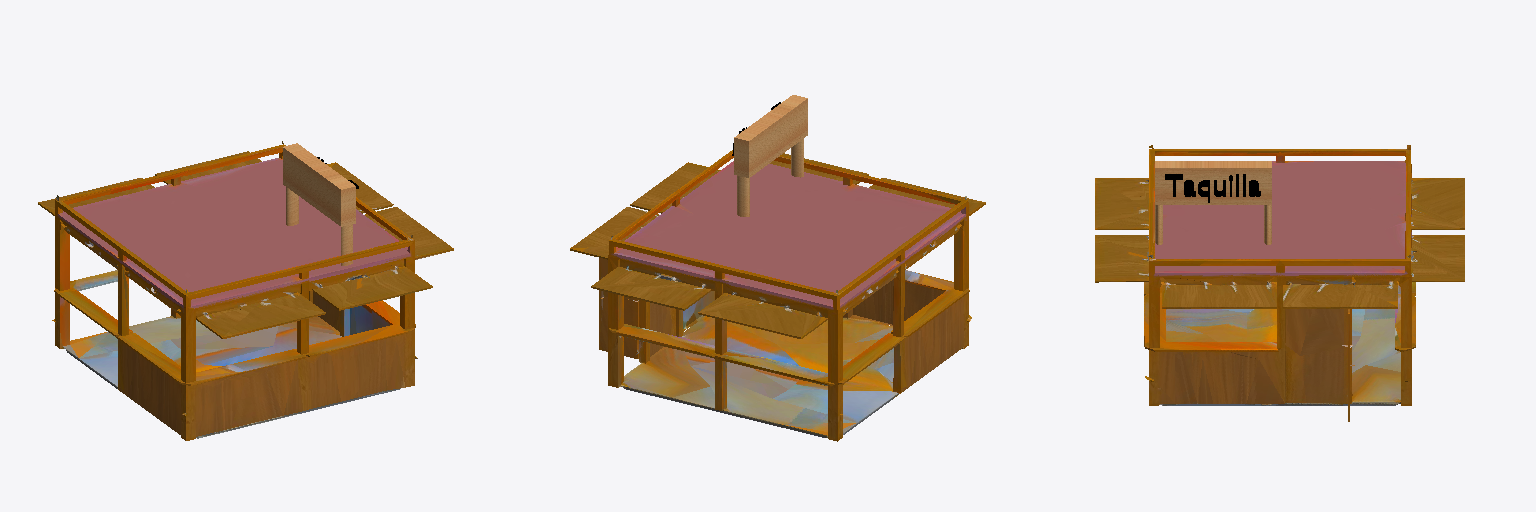
The picture shows the model from 3 angles: view 1: azimuth 30°, elevation 25°; view 2: azimuth 150°, elevation 25°; view 3: azimuth 270°, elevation 25°; orthographic projection.
Visible parts, largest first — view 1: tripo_node_9fff23da-f5ab-49b9-99cc-062a12d34a78, letrerotaquilla; view 2: tripo_node_9fff23da-f5ab-49b9-99cc-062a12d34a78, letrerotaquilla; view 3: tripo_node_9fff23da-f5ab-49b9-99cc-062a12d34a78, letrerotaquilla.
Part boxes in pixels (x1,y1,x2,y2): tripo_node_9fff23da-f5ab-49b9-99cc-062a12d34a78: (38, 141, 453, 440); letrerotaquilla: (283, 143, 358, 265); tripo_node_9fff23da-f5ab-49b9-99cc-062a12d34a78: (570, 150, 985, 441); letrerotaquilla: (732, 95, 807, 216); tripo_node_9fff23da-f5ab-49b9-99cc-062a12d34a78: (1095, 145, 1464, 421); letrerotaquilla: (1155, 161, 1271, 244).
Bounding box in the file's own units: 0.8701 × 0.6359 × 0.9996.
3 materials, 2 textured.